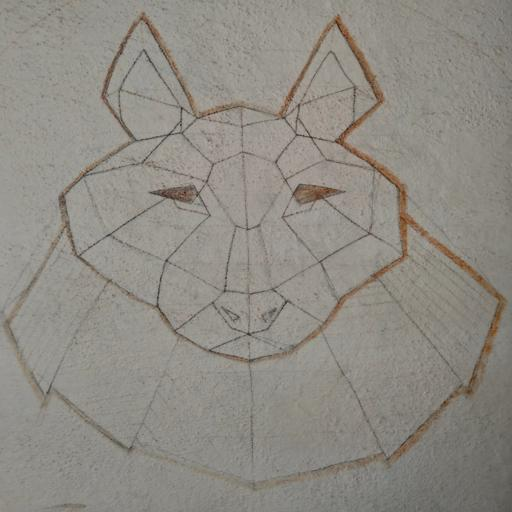stain: (0, 9, 512, 496)
